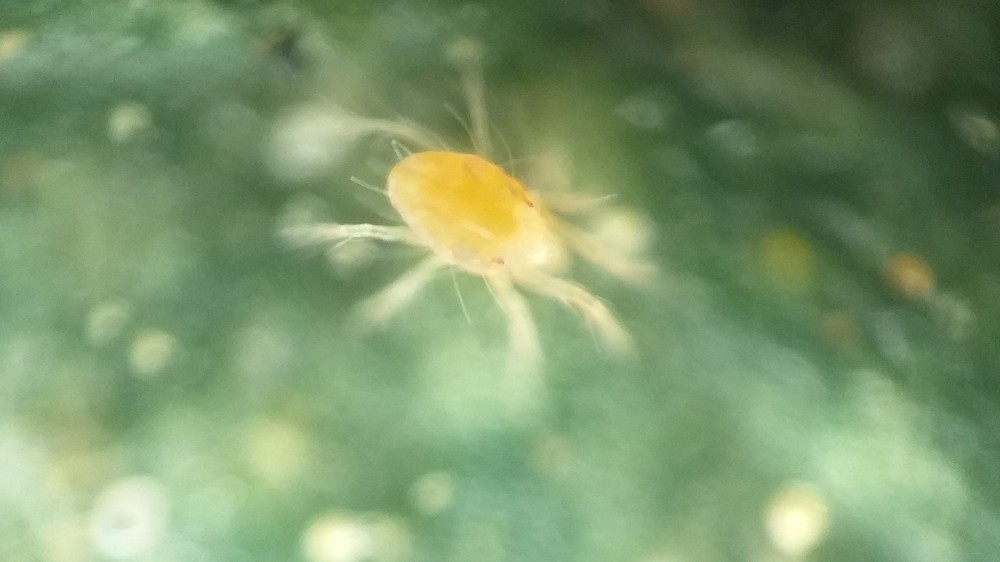Aracnido Rojo: (283, 79, 676, 394)
